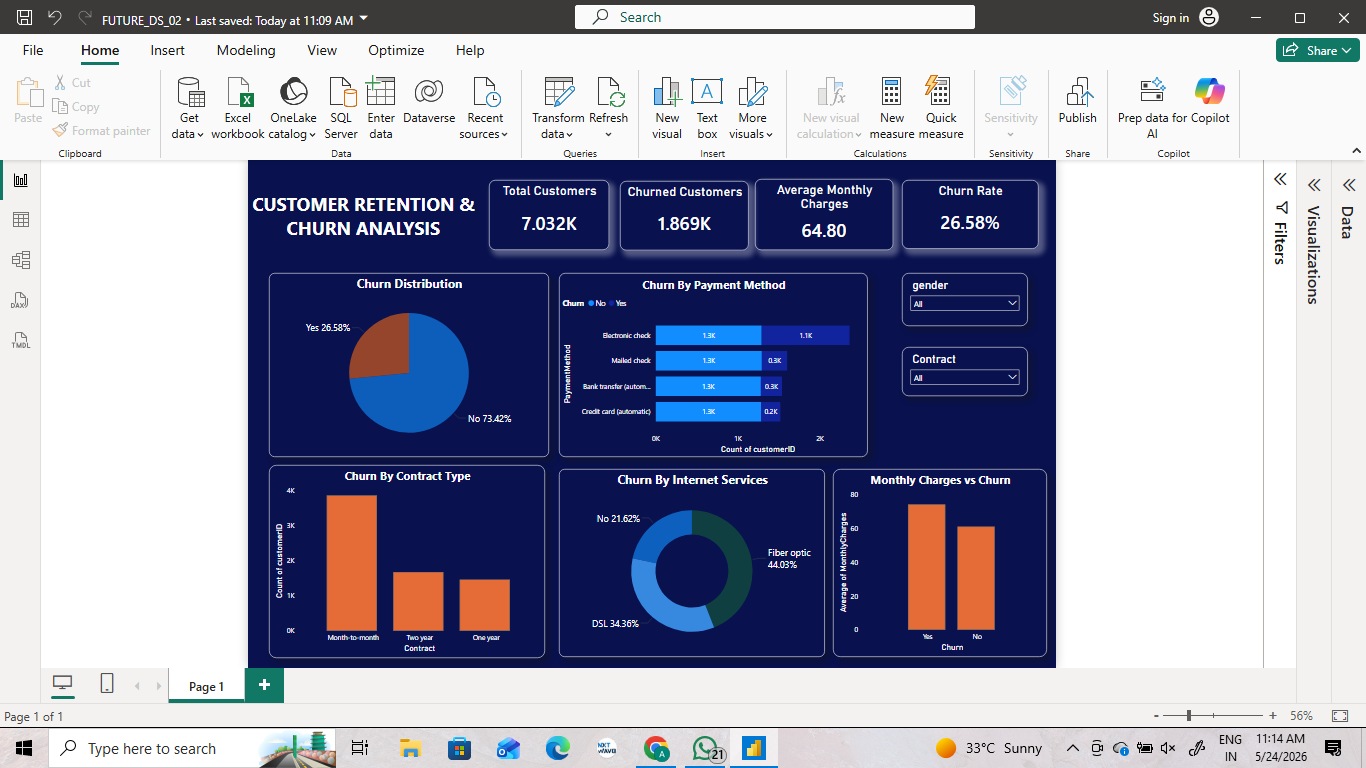

The dashboard page shown, as its layout file describes it:
{"tool":"powerbi","page":{"name":"Page 1","canvas":[1430,900],"ordinal":0},"visuals":[{"type":"cardVisual","title":"Total Customers","fields":{"Data":["Count(WA_Fn-UseC_-Telco-Customer-Churn.customerID)"]},"box":[426.3,36.3,213.2,124],"z":0},{"type":"cardVisual","title":"Churned Customers","fields":{"Data":["Count(WA_Fn-UseC_-Telco-Customer-Churn.customerID)"]},"box":[658.5,37,228.5,122.6],"z":1000},{"type":"cardVisual","title":"Average Monthly Charges","fields":{"Data":["Avg(WA_Fn-UseC_-Telco-Customer-Churn.MonthlyCharges)"]},"box":[898.7,33.9,244.9,126.2],"z":2000},{"type":"textbox","box":[0,15.2,408.7,221.2],"z":3000},{"type":"cardVisual","title":"Churn Rate","fields":{"Data":["WA_Fn-UseC_-Telco-Customer-Churn.Churn Rate","select"]},"box":[1158.1,34.8,241.9,122.5],"z":4000},{"type":"pieChart","title":"Churn Distribution ","fields":{"Category":["WA_Fn-UseC_-Telco-Customer-Churn.Churn"],"Y":["Count(WA_Fn-UseC_-Telco-Customer-Churn.customerID)"]},"box":[37.2,200.2,496.1,326],"z":5000},{"type":"clusteredColumnChart","title":"Churn By Contract Type","fields":{"Category":["WA_Fn-UseC_-Telco-Customer-Churn.Contract"],"Y":["Count(WA_Fn-UseC_-Telco-Customer-Churn.customerID)"]},"box":[37.2,540.4,489,341.9],"z":6000},{"type":"barChart","title":"Churn By Payment Method","fields":{"Category":["WA_Fn-UseC_-Telco-Customer-Churn.PaymentMethod"],"Series":["WA_Fn-UseC_-Telco-Customer-Churn.Churn"],"Y":["CountNonNull(WA_Fn-UseC_-Telco-Customer-Churn.customerID)"]},"box":[551,200.2,547.4,326],"z":7000},{"type":"donutChart","title":"Churn By Internet Services","fields":{"Y":["Count(WA_Fn-UseC_-Telco-Customer-Churn.customerID)"],"Category":["WA_Fn-UseC_-Telco-Customer-Churn.InternetService"]},"box":[550.1,548.3,471,333.5],"z":8000},{"type":"clusteredColumnChart","title":"Monthly Charges vs Churn","fields":{"Category":["WA_Fn-UseC_-Telco-Customer-Churn.Churn"],"Y":["Avg(WA_Fn-UseC_-Telco-Customer-Churn.MonthlyCharges)"]},"box":[1036.4,547.4,379.1,333.1],"z":9000},{"type":"slicer","fields":{"Values":["WA_Fn-UseC_-Telco-Customer-Churn.gender"]},"box":[1158.7,200.2,223.2,93.9],"z":10000},{"type":"slicer","fields":{"Values":["WA_Fn-UseC_-Telco-Customer-Churn.Contract"]},"box":[1158.7,331.3,223.2,86.8],"z":11000}]}

Visuals, with their boxes on the page's 1430x900 design canvas (x1, y1, x2, y2). These are canvas units, not pixel positions in the 1366x768 screenshot, which may show the page scaled, cropped or inside an application window:
"Total Customers" cardVisual: crop(426, 36, 640, 160)
"Churned Customers" cardVisual: crop(658, 37, 887, 160)
"Average Monthly Charges" cardVisual: crop(899, 34, 1144, 160)
textbox: crop(0, 15, 409, 236)
"Churn Rate" cardVisual: crop(1158, 35, 1400, 157)
"Churn Distribution " pieChart: crop(37, 200, 533, 526)
"Churn By Contract Type" clusteredColumnChart: crop(37, 540, 526, 882)
"Churn By Payment Method" barChart: crop(551, 200, 1098, 526)
"Churn By Internet Services" donutChart: crop(550, 548, 1021, 882)
"Monthly Charges vs Churn" clusteredColumnChart: crop(1036, 547, 1416, 880)
slicer - WA_Fn-UseC_-Telco-Customer-Churn.gender: crop(1159, 200, 1382, 294)
slicer - WA_Fn-UseC_-Telco-Customer-Churn.Contract: crop(1159, 331, 1382, 418)
